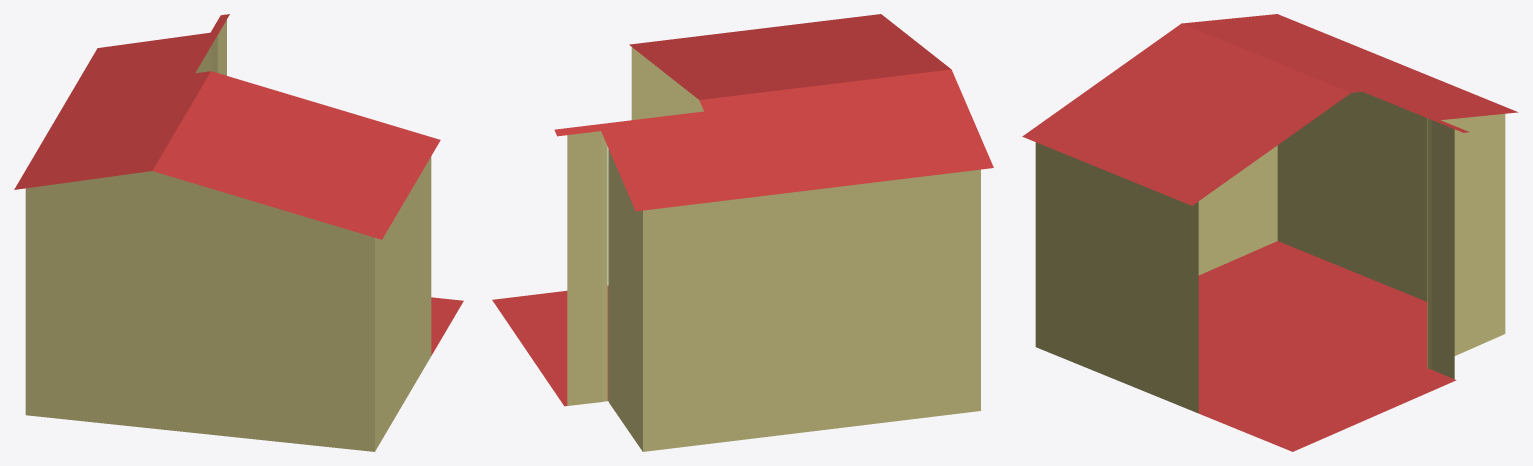
The picture shows the model from 3 angles, left to right: view 1: azimuth 30°, elevation 25°; view 2: azimuth 150°, elevation 25°; view 3: azimuth 270°, elevation 25°; orthographic projection. The views are drawn at different scales.
Bounding box in the file's own units: 13.57 × 13.14 × 7.41.
